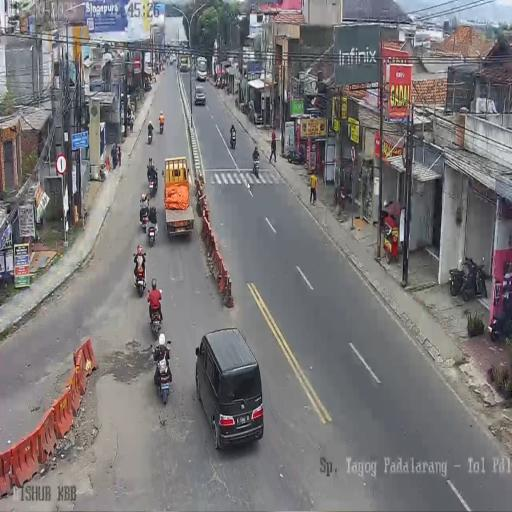car: (194, 326, 264, 448), (193, 82, 206, 105), (170, 53, 176, 64)
motorcycle: (450, 256, 487, 302), (152, 344, 172, 406), (490, 302, 512, 343), (148, 294, 163, 336), (133, 254, 147, 296), (147, 214, 158, 246), (286, 146, 304, 164), (148, 170, 158, 198), (140, 203, 150, 229), (252, 156, 260, 177), (230, 130, 236, 150), (147, 125, 153, 144), (129, 111, 134, 132), (159, 116, 164, 134), (156, 63, 160, 74)
truck: (164, 154, 194, 236), (196, 56, 208, 81), (179, 54, 190, 73)
